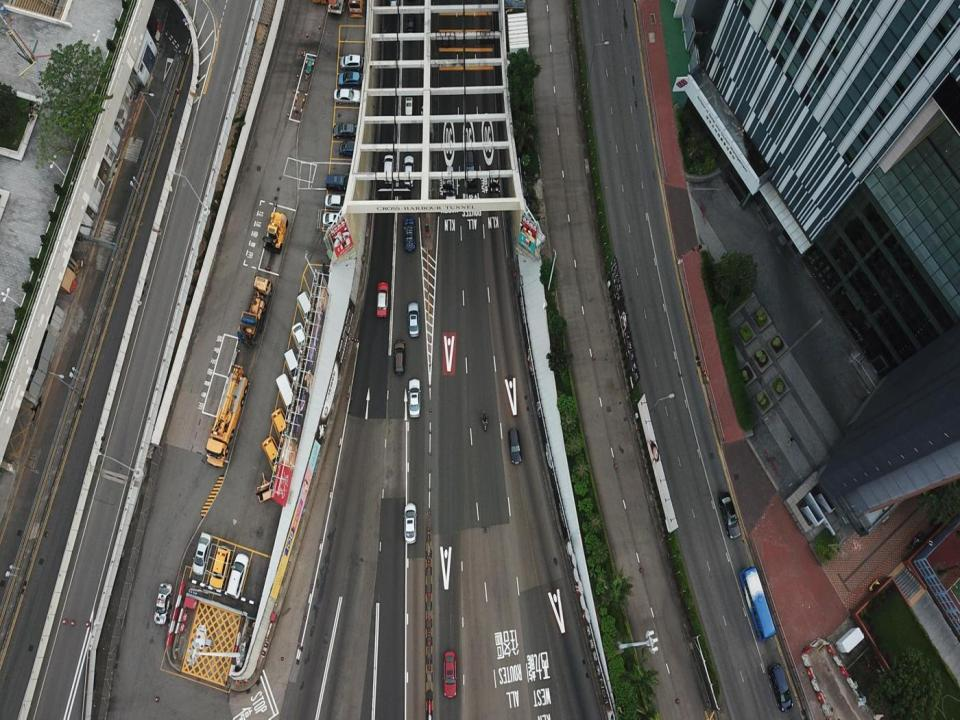bus: (738, 566, 776, 642)
car: (719, 492, 741, 537), (192, 532, 212, 576), (154, 582, 172, 624), (292, 322, 310, 361), (443, 651, 457, 698), (403, 502, 417, 544), (407, 378, 422, 417), (332, 121, 359, 140), (376, 281, 389, 318), (334, 88, 362, 105), (407, 302, 420, 336), (403, 217, 416, 250), (339, 140, 360, 158), (324, 195, 348, 210), (404, 10, 415, 39), (323, 213, 344, 227)
truck: (206, 364, 248, 467), (238, 276, 273, 347)
van: (768, 661, 793, 712), (296, 290, 320, 334), (226, 553, 249, 598), (275, 373, 298, 417), (262, 436, 286, 475), (209, 546, 231, 588), (271, 408, 292, 452), (283, 347, 303, 386), (508, 427, 521, 464), (445, 166, 457, 205), (325, 174, 352, 191), (393, 340, 406, 374), (464, 145, 475, 184), (403, 88, 415, 121), (402, 156, 415, 186), (340, 54, 363, 70), (338, 70, 361, 86), (383, 154, 394, 184), (390, 1, 398, 11)
